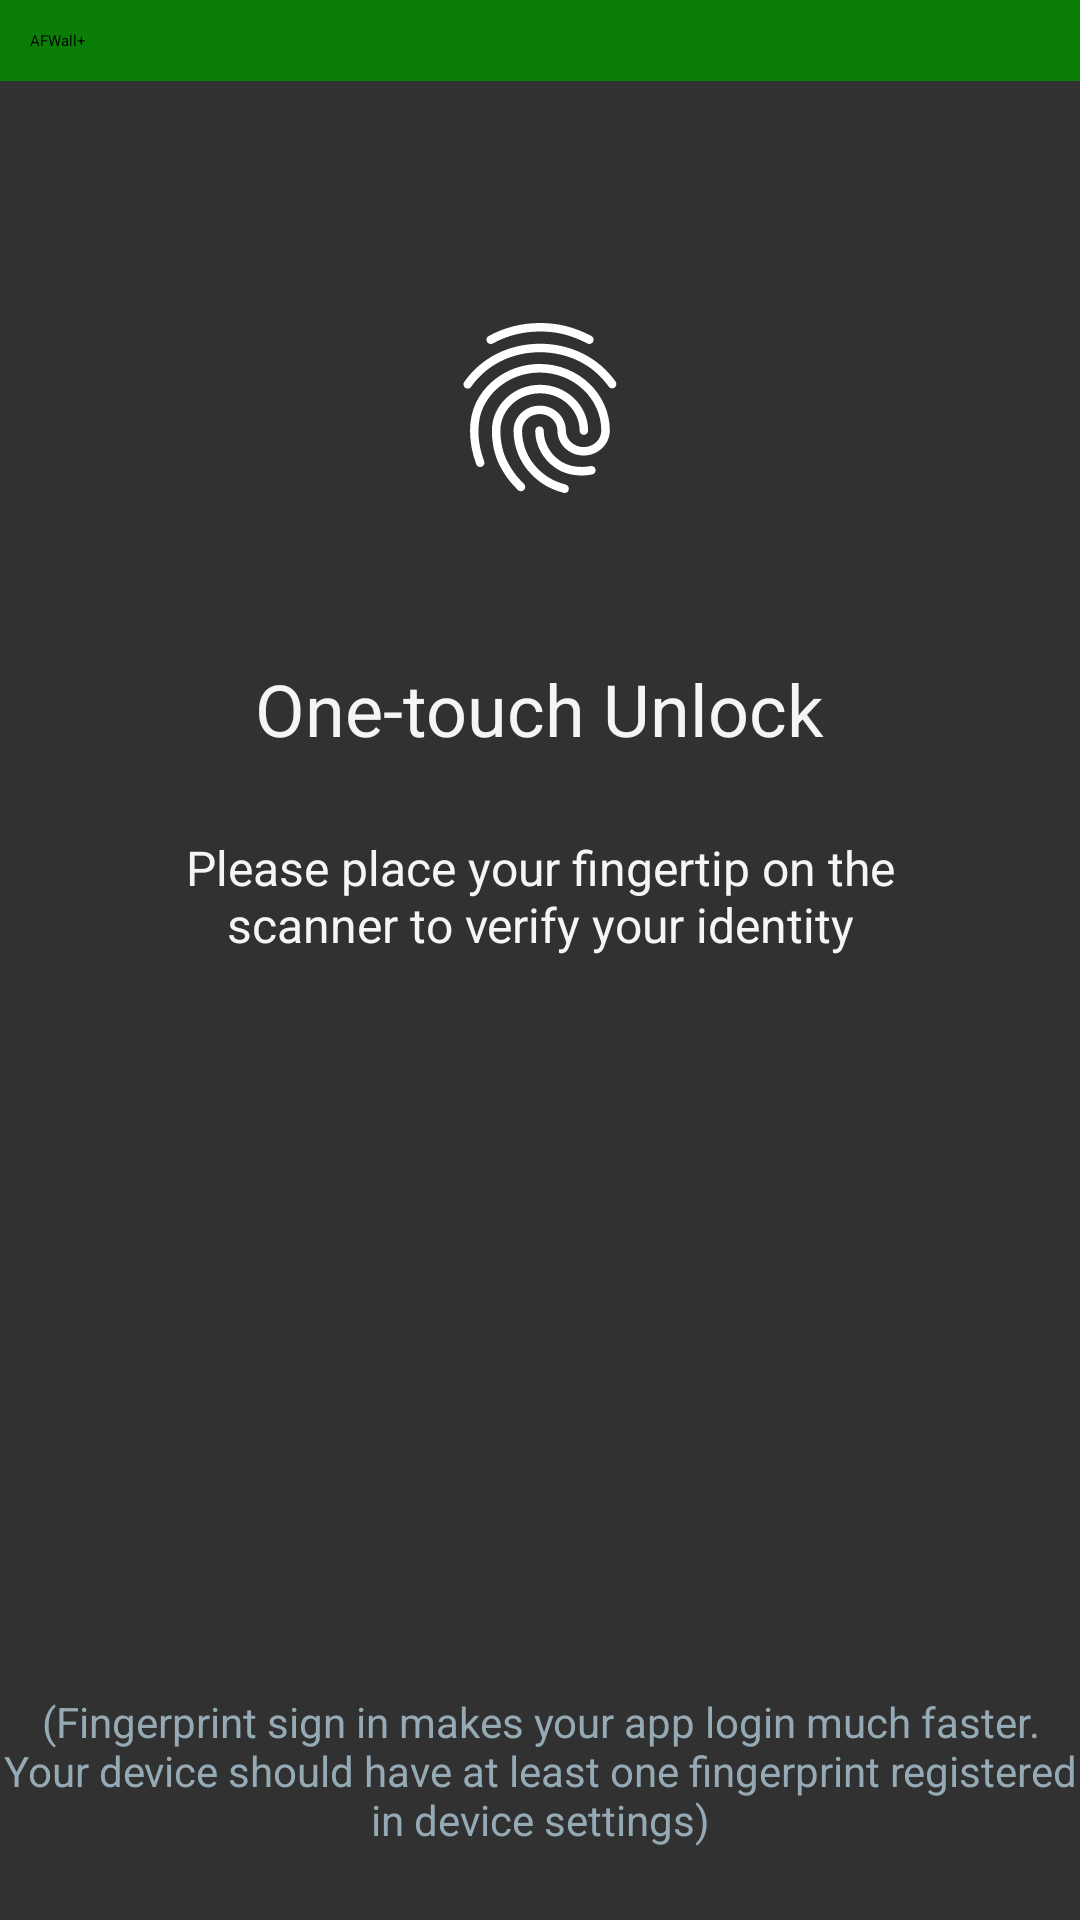

Screen size 1080x1920. Icon name, then its box in pixels as (x1, y1, x2, y2):
fingerprint: (463, 323, 617, 493)
